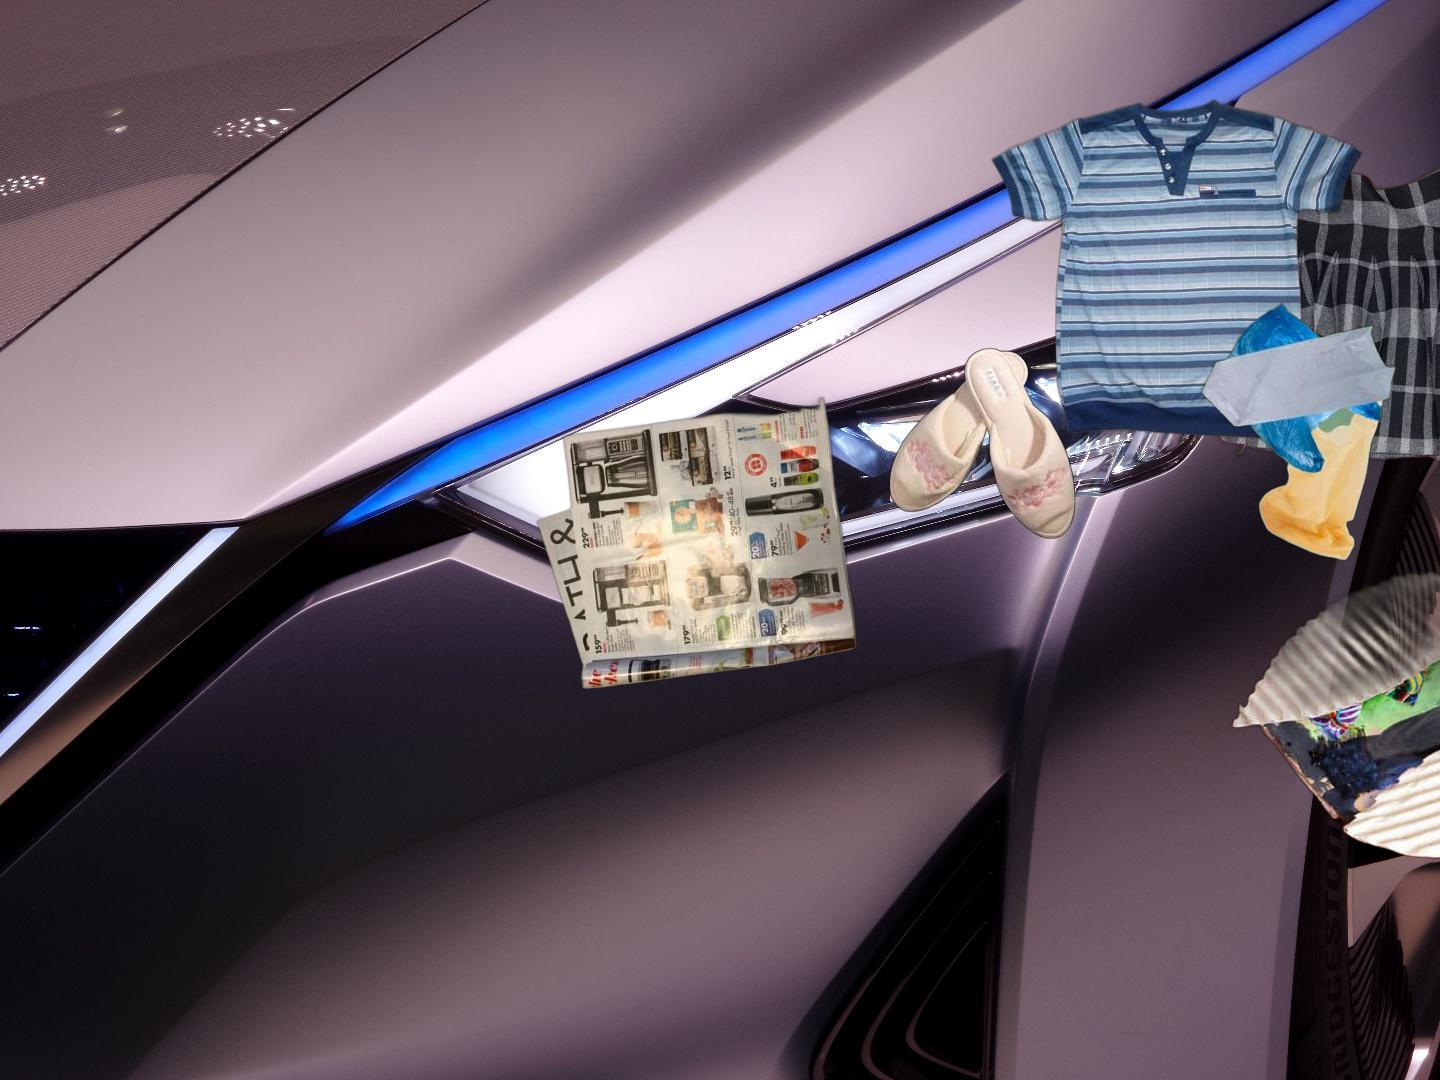clothes: (988, 94, 1366, 446), (1215, 152, 1440, 471)
paper: (533, 394, 859, 692)
plastic-bag: (1198, 298, 1398, 563)
shoes: (887, 345, 1078, 542)
trashbox-cardboard: (1186, 495, 1440, 862), (794, 1032, 1335, 1080)
